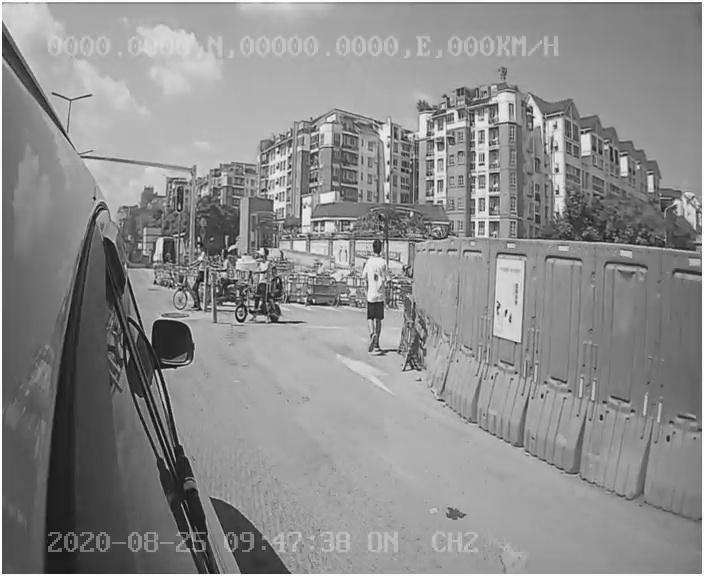person: (354, 237, 396, 362)
